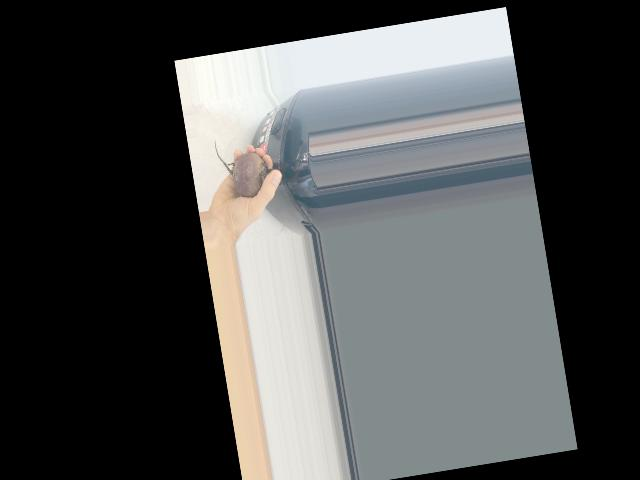beet: (213, 131, 276, 201)
